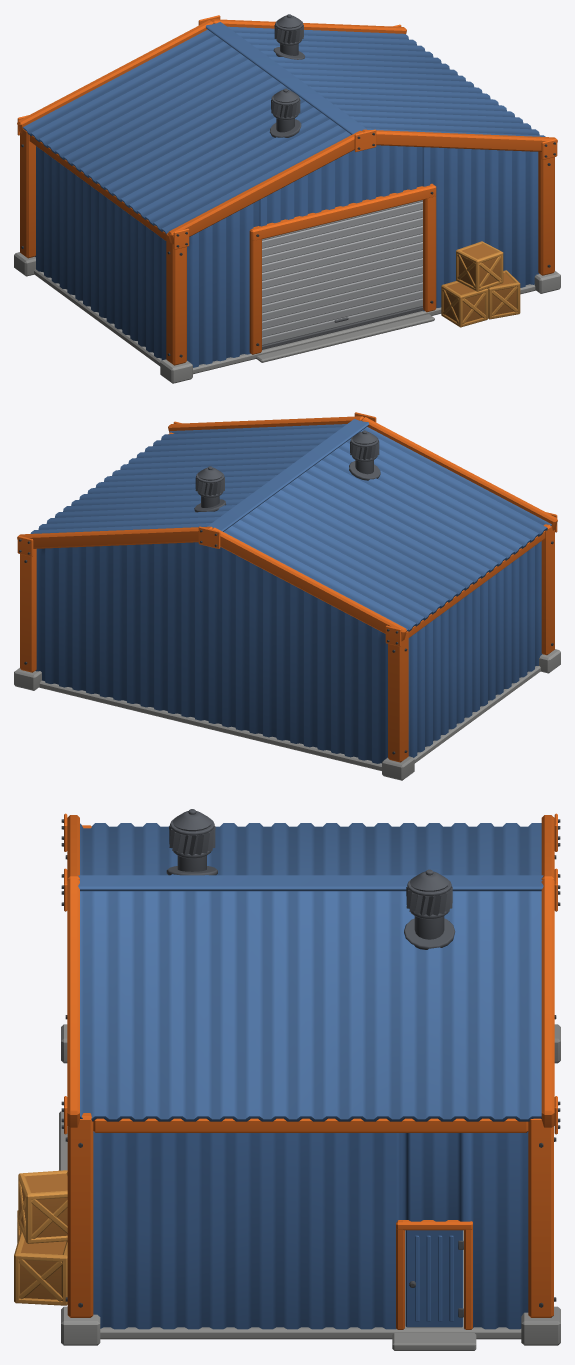
The model's file is warehouse.glb.
The picture shows the model from 3 angles, top to bottom: view 1: azimuth 30°, elevation 25°; view 2: azimuth 150°, elevation 25°; view 3: azimuth 270°, elevation 25°; orthographic projection. The views are drawn at different scales.
Visible parts, largest first — view 1: roof, walls, trim_frames, roller_door, concrete_base, crates, roof_vents; view 2: walls, roof, trim_frames, concrete_base, roof_vents; view 3: roof, walls, trim_frames, concrete_base, crates, roof_vents, side_door.
Boxes of the visible parts, <box> form: roof: <box>23,22,545,234</box>; walls: <box>35,145,538,367</box>; trim_frames: <box>17,15,557,365</box>; roller_door: <box>262,200,423,349</box>; concrete_base: <box>14,252,560,383</box>; crates: <box>441,241,520,327</box>; roof_vents: <box>269,14,304,137</box>; walls: <box>35,541,542,763</box>; roof: <box>30,419,551,631</box>; trim_frames: <box>17,412,557,762</box>; concrete_base: <box>14,649,560,780</box>; roof_vents: <box>194,430,380,512</box>; roof: <box>78,823,543,1121</box>; walls: <box>93,1131,528,1329</box>; trim_frames: <box>61,813,560,1329</box>; concrete_base: <box>59,1024,560,1350</box>; crates: <box>14,1170,67,1305</box>; roof_vents: <box>166,809,455,949</box>; side_door: <box>405,1230,463,1327</box>.
Bounding box in the file's own units: 14.56 × 7.97 × 11.07.
